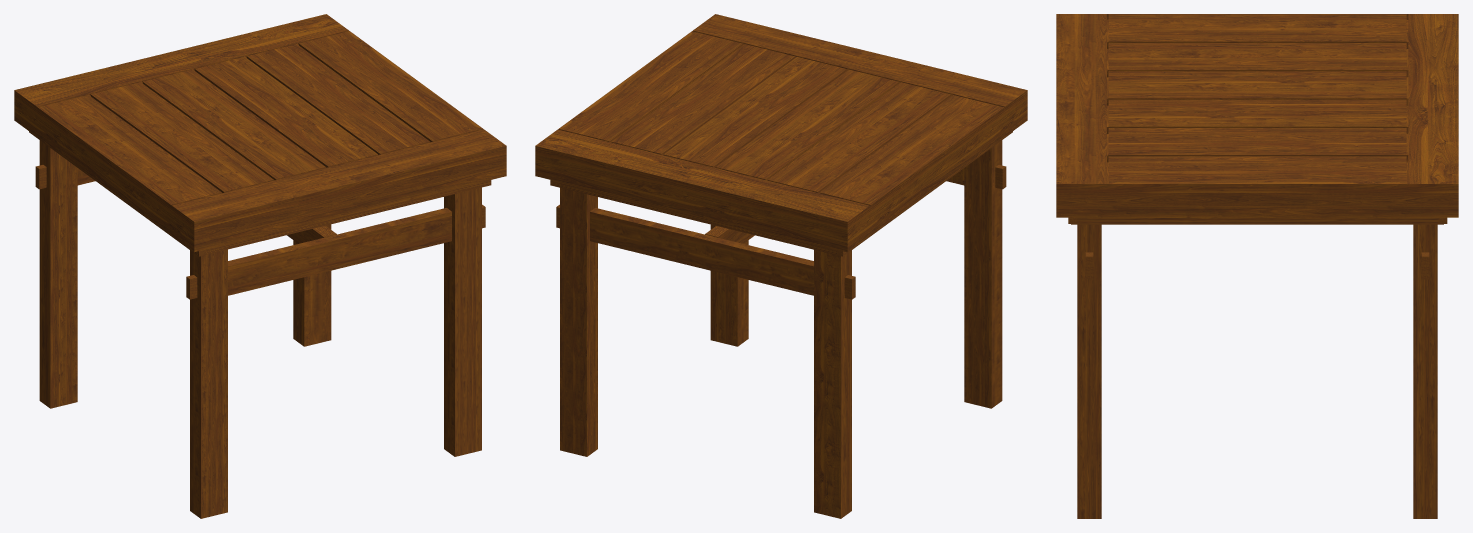
Rendered from Renata-Square-Dining-Table.glb.
3 renders of one model, left to right at view 1: azimuth 30°, elevation 25°; view 2: azimuth 150°, elevation 25°; view 3: azimuth 270°, elevation 25°, orthographic. The views are drawn at different scales.
Parts seen in each view (by area): view 1: Cube.013, Cube.003, Cube.002, Cube.005, Cube.006, Cube.004, Cube.014; view 2: Cube.013, Cube.005, Cube.004, Cube.003, Cube.007, Cube.002, Cube.015; view 3: Cube.013, Cube.004, Cube.002, Cube.017.
Part boxes in pixels (x1,y1,x2,y2): Cube.013: (14, 14, 506, 252); Cube.003: (190, 249, 227, 518); Cube.002: (444, 187, 481, 456); Cube.005: (39, 140, 77, 408); Cube.006: (228, 208, 451, 295); Cube.004: (293, 224, 331, 346); Cube.014: (205, 180, 491, 254); Cube.013: (535, 14, 1027, 252); Cube.005: (814, 250, 851, 518); Cube.004: (560, 188, 597, 456); Cube.003: (964, 140, 1002, 408); Cube.007: (590, 208, 813, 295); Cube.002: (710, 224, 748, 346); Cube.015: (550, 180, 836, 255); Cube.013: (1056, 14, 1458, 217); Cube.004: (1413, 224, 1437, 518); Cube.002: (1077, 224, 1101, 518); Cube.017: (1071, 217, 1443, 224).
Size of the model in its own units: 0.4983 by 0.4691 by 0.498.
1 material, 1 textured.
